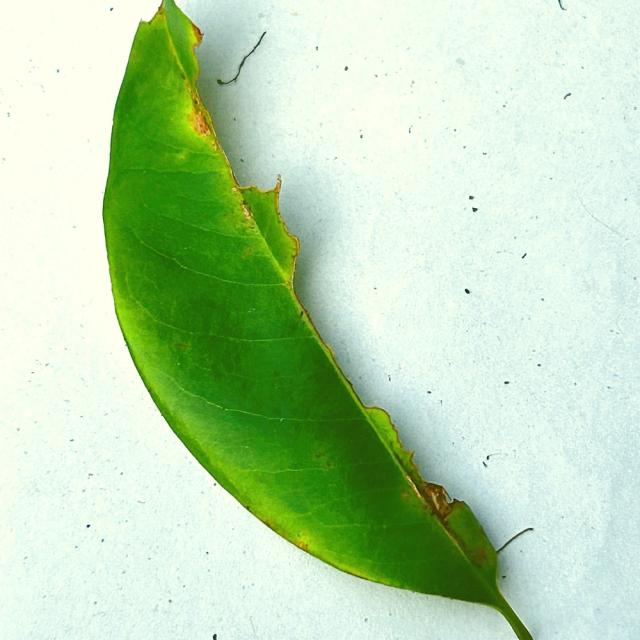Deficiency Leaf: (291, 287, 481, 538), (196, 32, 281, 214)
Lychee: (104, 0, 531, 639)
